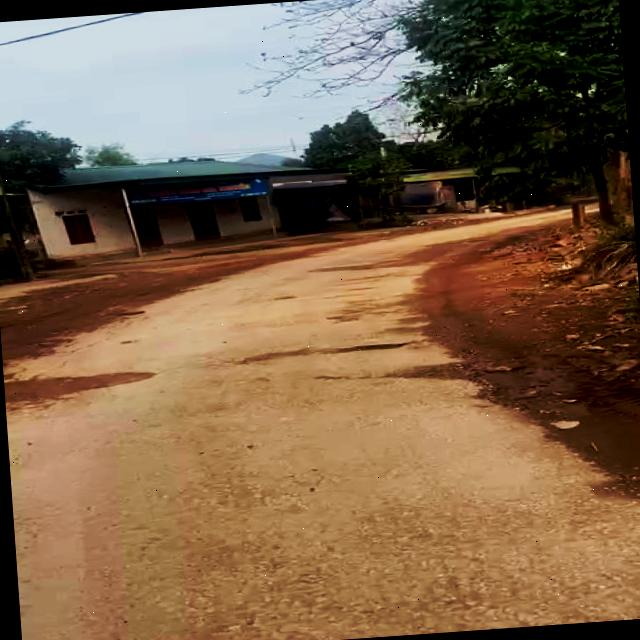pothole: (4, 364, 158, 408), (426, 354, 531, 412), (231, 338, 414, 368)
